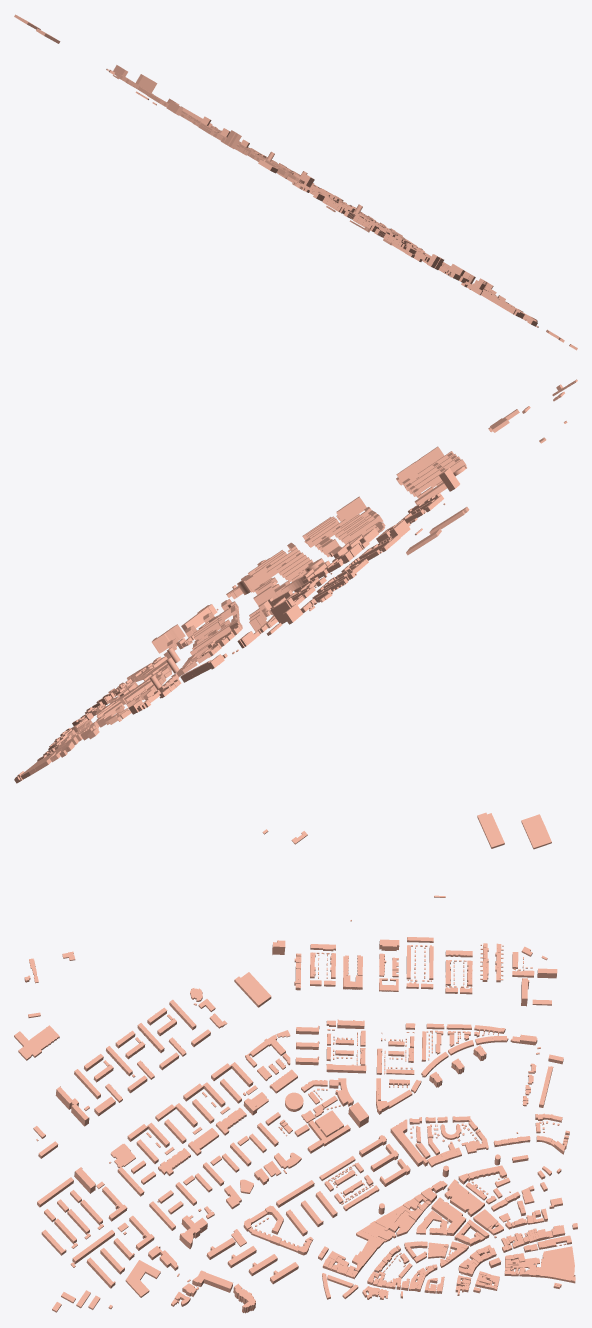
The picture shows the model from 3 angles, top to bottom: view 1: azimuth 30°, elevation 25°; view 2: azimuth 150°, elevation 25°; view 3: azimuth 270°, elevation 25°; orthographic projection. The views are drawn at different scales.
Bounding box in the file's own units: 1048 × 773 × 1273.
